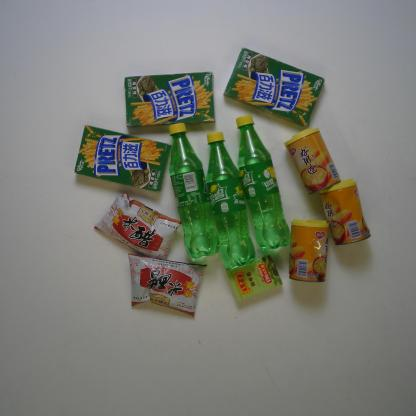Candy: (225, 254, 283, 303)
Canned Food: (283, 127, 341, 195), (317, 178, 372, 246), (287, 218, 330, 283)
Dessert: (222, 47, 326, 128), (73, 123, 172, 194), (124, 70, 216, 127)
Drink: (234, 113, 293, 252), (204, 130, 258, 270), (166, 122, 218, 260)
Seasoner: (93, 192, 183, 260), (127, 253, 209, 318)
